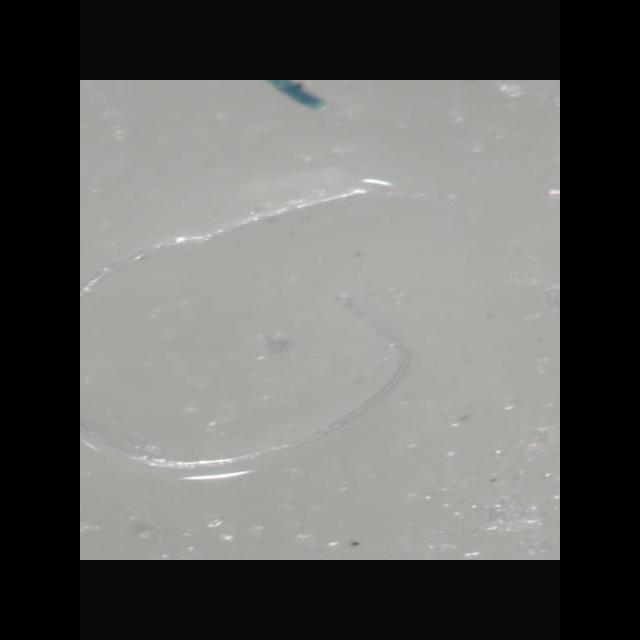Fibre: (80, 172, 472, 483)
